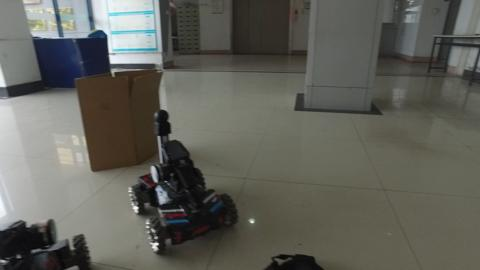box: (75, 69, 157, 167)
chariot: (122, 110, 242, 248)
